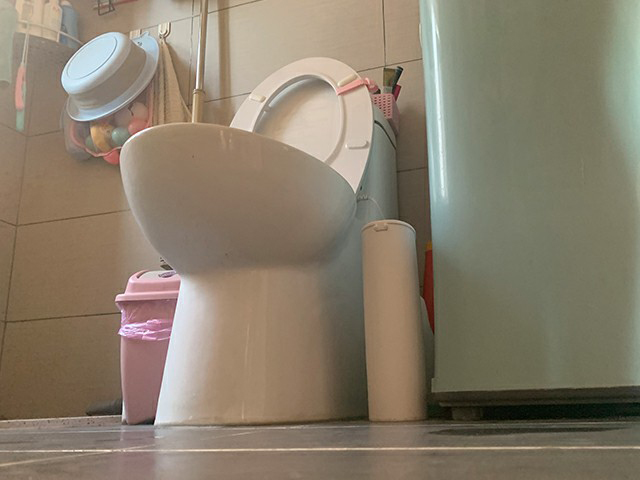closestool: (117, 58, 399, 429)
trash can: (114, 267, 182, 427)
